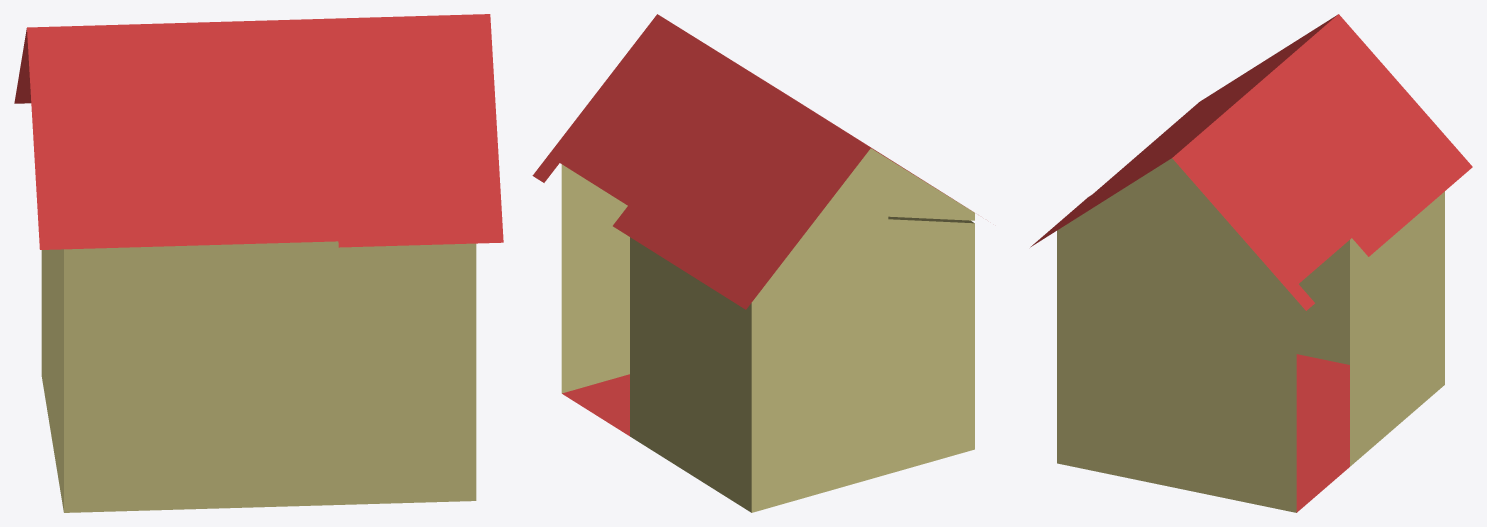
3 renders of one model, left to right at view 1: azimuth 30°, elevation 25°; view 2: azimuth 150°, elevation 25°; view 3: azimuth 270°, elevation 25°, orthographic. The views are drawn at different scales.
Bounding box in the file's own units: 17.08 × 15.98 × 13.46.
